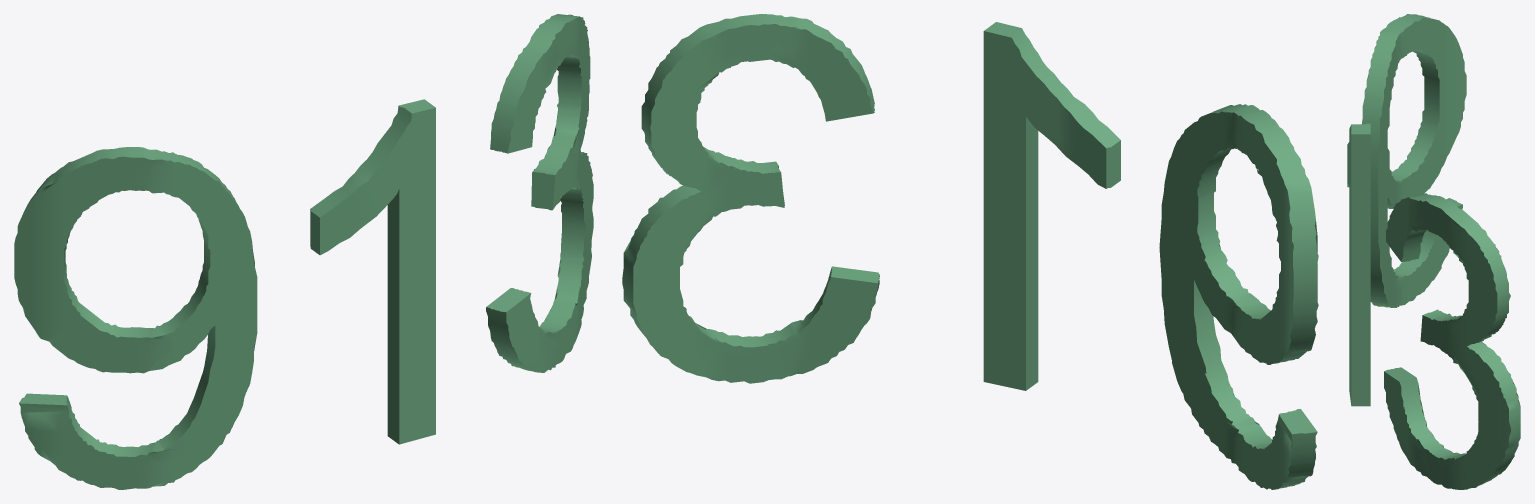
File: port_13.obj
The picture shows the model from 3 angles, left to right: view 1: azimuth 30°, elevation 25°; view 2: azimuth 150°, elevation 25°; view 3: azimuth 270°, elevation 25°; orthographic projection. The views are drawn at different scales.
Visible parts, largest first — view 1: Text01; view 2: Text01; view 3: Text01.
Part boxes in pixels (x1=…): Text01: x1=14, y1=14, x2=593, y2=489; Text01: x1=622, y1=14, x2=1318, y2=489; Text01: x1=1347, y1=14, x2=1520, y2=489.
Bounding box in the file's own units: 3.06 × 1.59 × 0.9.
